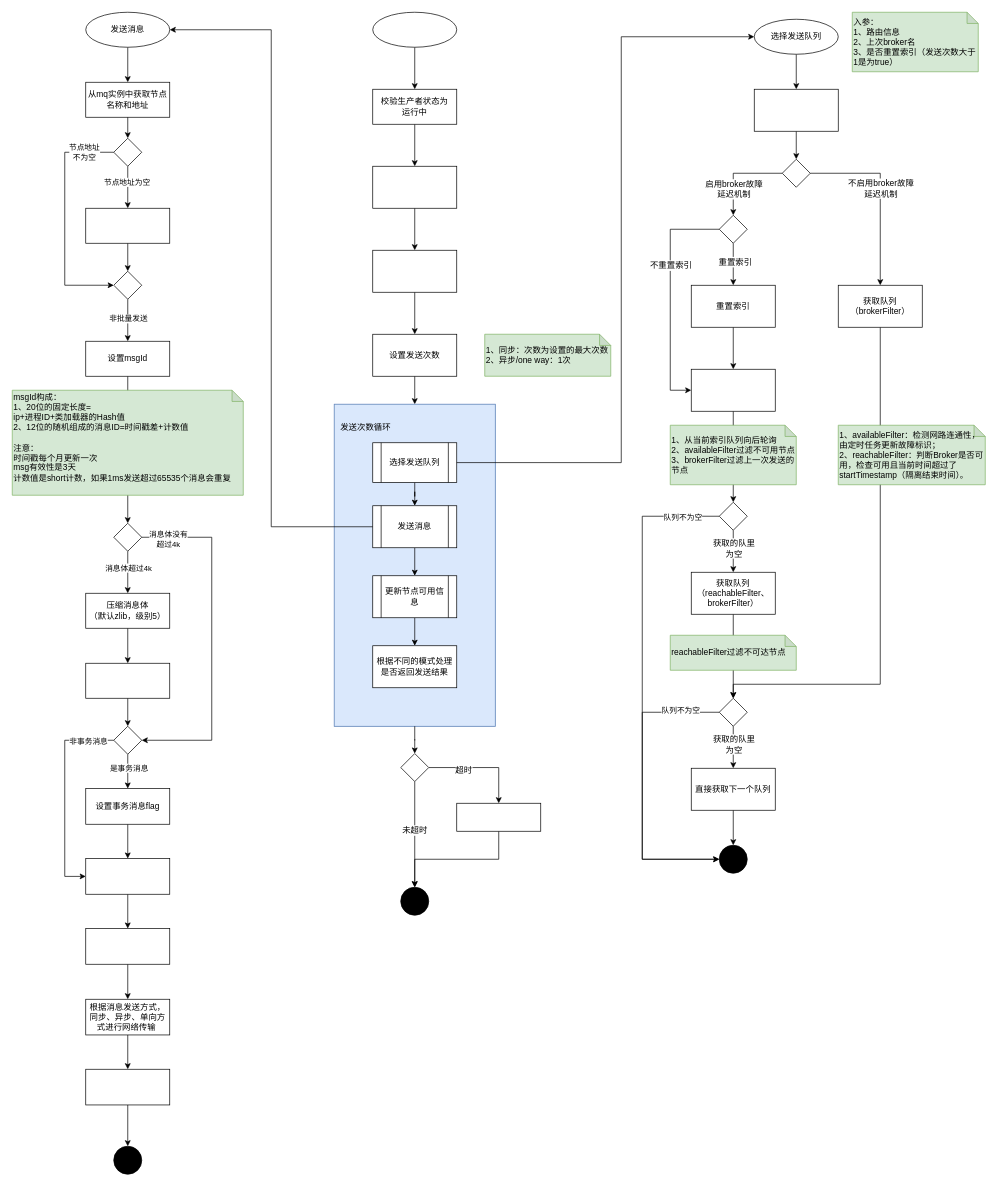
Some shapes in this 998 by 1187 pixel diagram are drawn without their labels. Here are the shapes that lost their labels. From the top down, the centre of each, then its label:
At (414,29): "生产者发送消息".
At (796,110): "获取过滤器，并设置上次的队列".
At (414,187): "校验消息体".
At (127,225): "从服务端拉取地址".
At (414,271): "从本地缓存/服务器获取路由信息".
At (733,390): "获取队列 （availableFilter、brokerFilter）".
At (127,680): "设置压缩标识、压缩类型".
At (498,817): "抛异常".
At (127,876): "禁止消息发送的钩子函数执行".
At (127,946): "消息发送前置钩子函数执行".
At (127,1087): "消息发送后置钩子函数执行".
